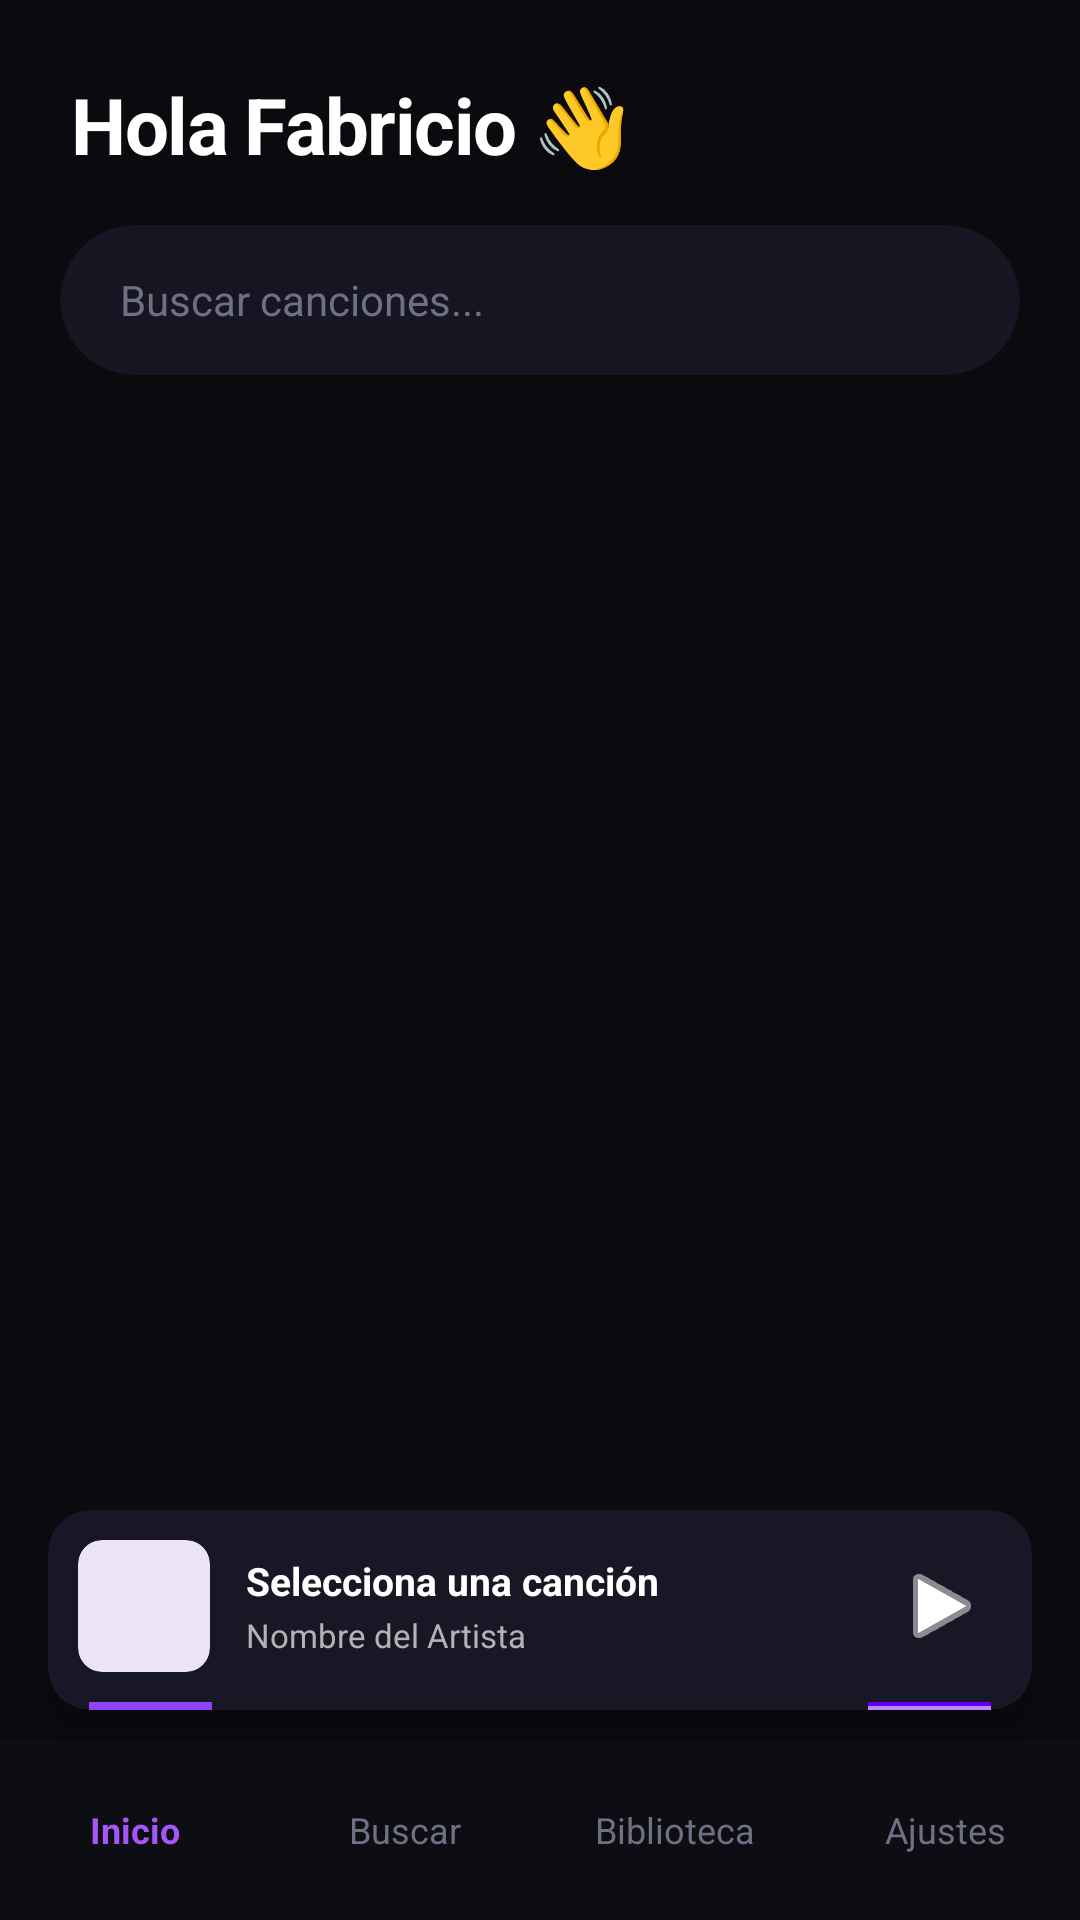

Where to tap for icons on this 1080 x 1920 app screen, as (x,y):
Reproducir o pausar: (942,1606)
